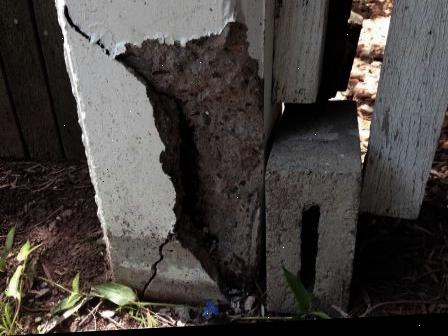spalling: (114, 21, 265, 282)
